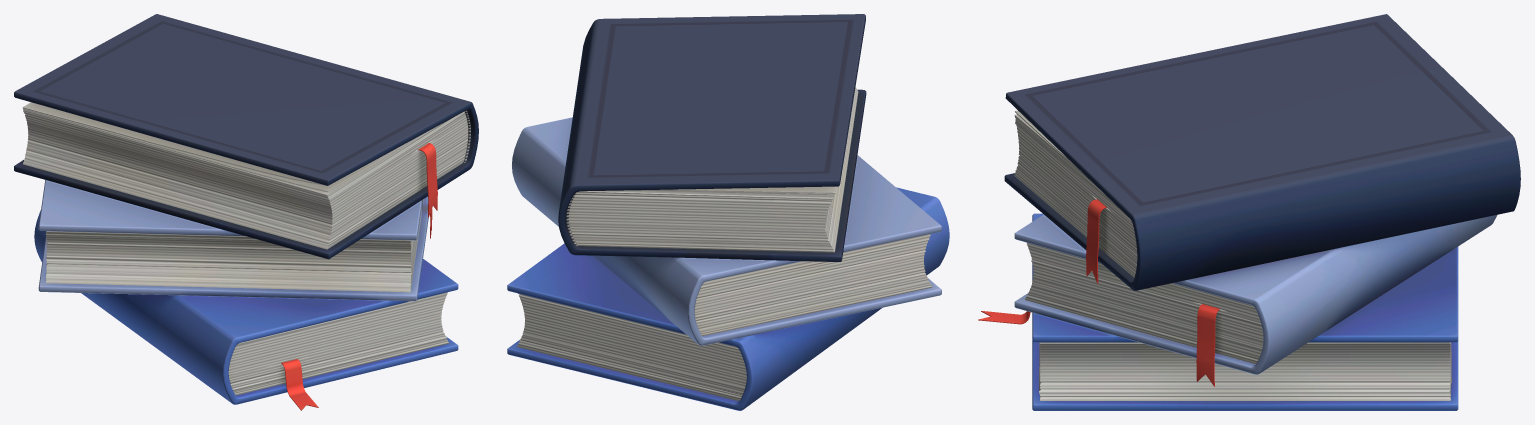
The model's file is books.fbx.
The picture shows the model from 3 angles, left to right: view 1: azimuth 30°, elevation 25°; view 2: azimuth 150°, elevation 25°; view 3: azimuth 270°, elevation 25°; orthographic projection. The views are drawn at different scales.
Visible parts, largest first — view 1: node_id99; view 2: node_id99; view 3: node_id99.
Boxes of the visible parts, x1=… form: node_id99: x1=14, y1=14, x2=478, y2=410; node_id99: x1=507, y1=14, x2=949, y2=410; node_id99: x1=978, y1=14, x2=1520, y2=410.
Bounding box in the file's own units: 0.1918 × 0.0977 × 0.1993.
1 material, 1 textured.
